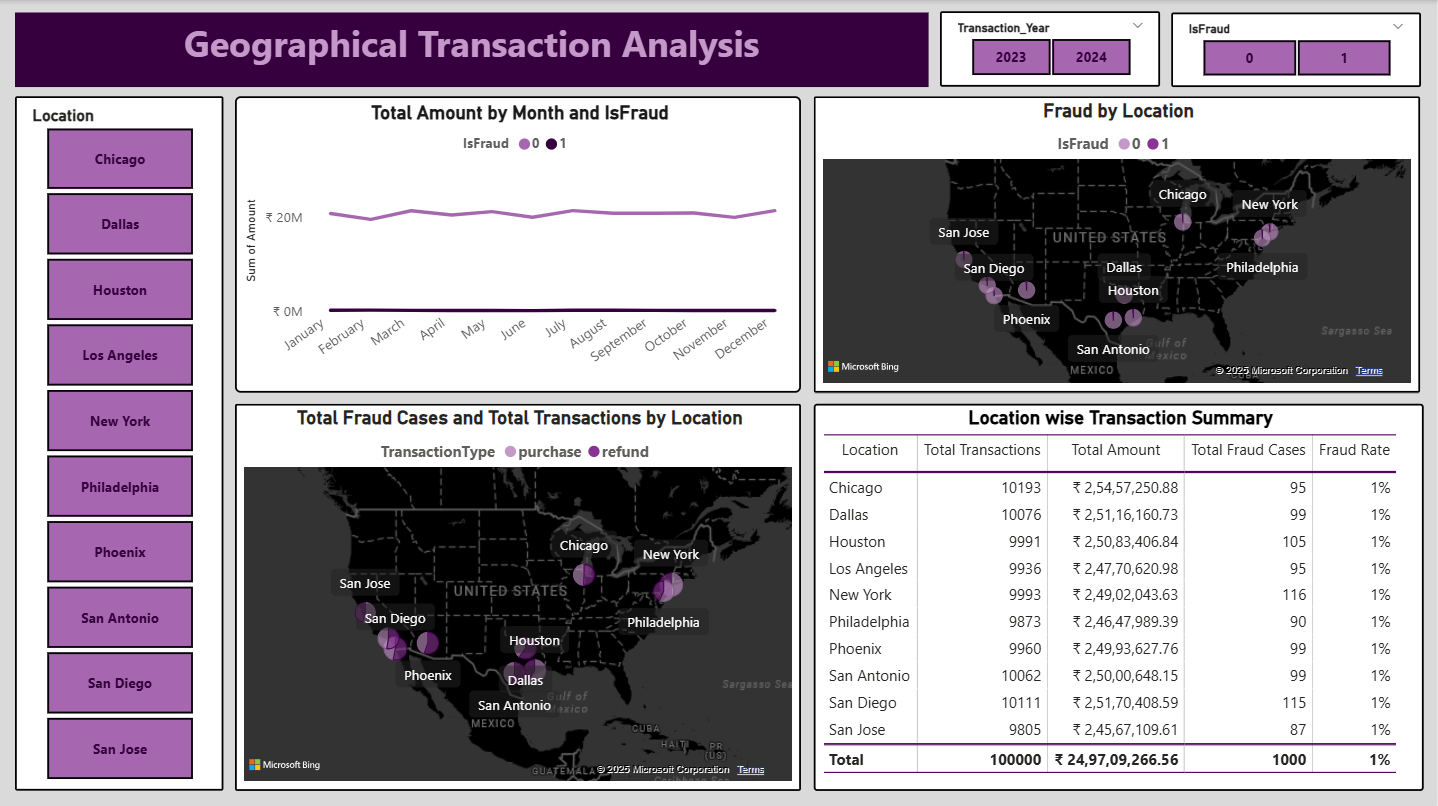

This screenshot's page, from the dashboard's own definition file:
{"tool":"powerbi","page":{"name":"Page 3","canvas":[1280,720],"ordinal":2},"visuals":[{"type":"tableEx","title":"Location wise Transaction Summary","fields":{"Values":["credit_card_fraud_dataset.Location","credit_card_fraud_dataset.Total Transactions","Sum(credit_card_fraud_dataset.Amount)","credit_card_fraud_dataset.Total Fraud Cases","credit_card_fraud_dataset.Fraud Rate"]},"box":[725.2,359.5,543.6,344.8],"z":0},{"type":"map","title":"Total Fraud Cases and Total Transactions by Location","fields":{"Size":["credit_card_fraud_dataset.Total Fraud Cases"],"Category":["credit_card_fraud_dataset.Location"],"Series":["credit_card_fraud_dataset.TransactionType"]},"box":[209.8,359.5,504.3,344.8],"z":1},{"type":"textbox","box":[13.5,11,813.5,66.3],"z":2},{"type":"slicer","fields":{"Values":["credit_card_fraud_dataset.Location"]},"box":[13.5,85.9,185.3,618.4],"z":3},{"type":"slicer","fields":{"Values":["credit_card_fraud_dataset.IsFraud"]},"box":[1043,11,222.1,66.3],"z":4},{"type":"map","title":"Fraud by Location","fields":{"Category":["credit_card_fraud_dataset.Location"],"Series":["credit_card_fraud_dataset.IsFraud"],"Size":["Sum(credit_card_fraud_dataset.Amount)"]},"box":[725.2,85.9,539.9,263.8],"z":5},{"type":"lineChart","title":"Total Amount by Month and IsFraud","fields":{"Category":["credit_card_fraud_dataset.TransactionDate.Variation.Date Hierarchy.Year","credit_card_fraud_dataset.TransactionDate.Variation.Date Hierarchy.Quarter","credit_card_fraud_dataset.TransactionDate.Variation.Date Hierarchy.Month","credit_card_fraud_dataset.TransactionDate.Variation.Date Hierarchy.Day"],"Series":["credit_card_fraud_dataset.IsFraud"],"Y":["Sum(credit_card_fraud_dataset.Amount)"]},"box":[209.8,85.9,504.3,263.8],"z":6},{"type":"slicer","fields":{"Values":["credit_card_fraud_dataset.Transaction_Year"]},"box":[836.8,9.8,196.3,67.5],"z":7}]}

Visuals, with their boxes in screenshot pixels (x1, y1, x2, y2), scaled from the page's 1280x720 canvas onto the 1438x806 screenshot:
"Location wise Transaction Summary" tableEx: [815,402,1425,788]
"Total Fraud Cases and Total Transactions by Location" map: [236,402,802,788]
textbox: [15,12,929,87]
slicer - credit_card_fraud_dataset.Location: [15,96,223,788]
slicer - credit_card_fraud_dataset.IsFraud: [1172,12,1421,87]
"Fraud by Location" map: [815,96,1421,391]
"Total Amount by Month and IsFraud" lineChart: [236,96,802,391]
slicer - credit_card_fraud_dataset.Transaction_Year: [940,11,1161,87]
